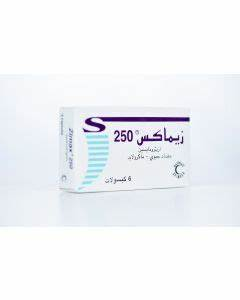Medicine: (58, 103, 196, 195)
